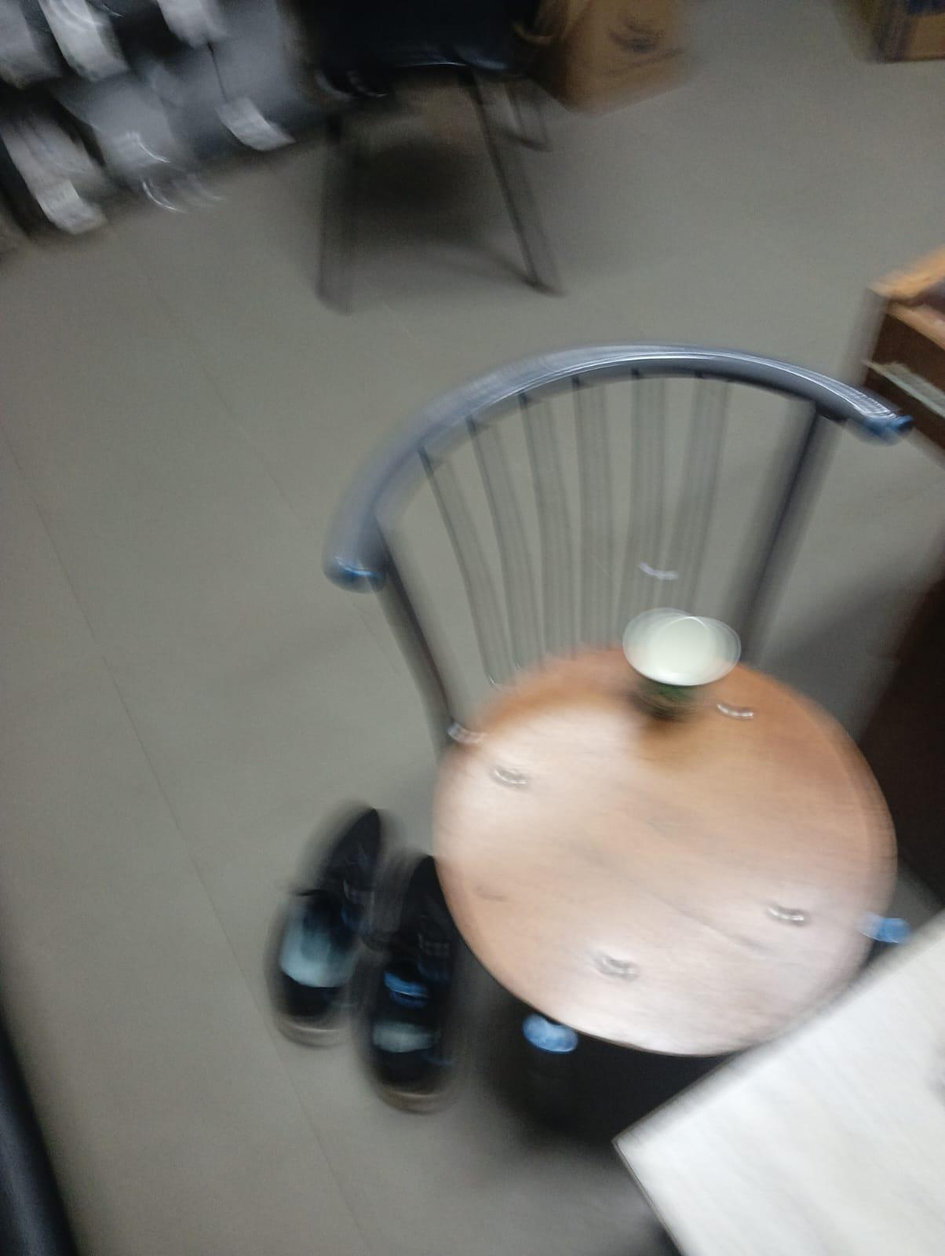cup: (623, 609, 739, 717)
